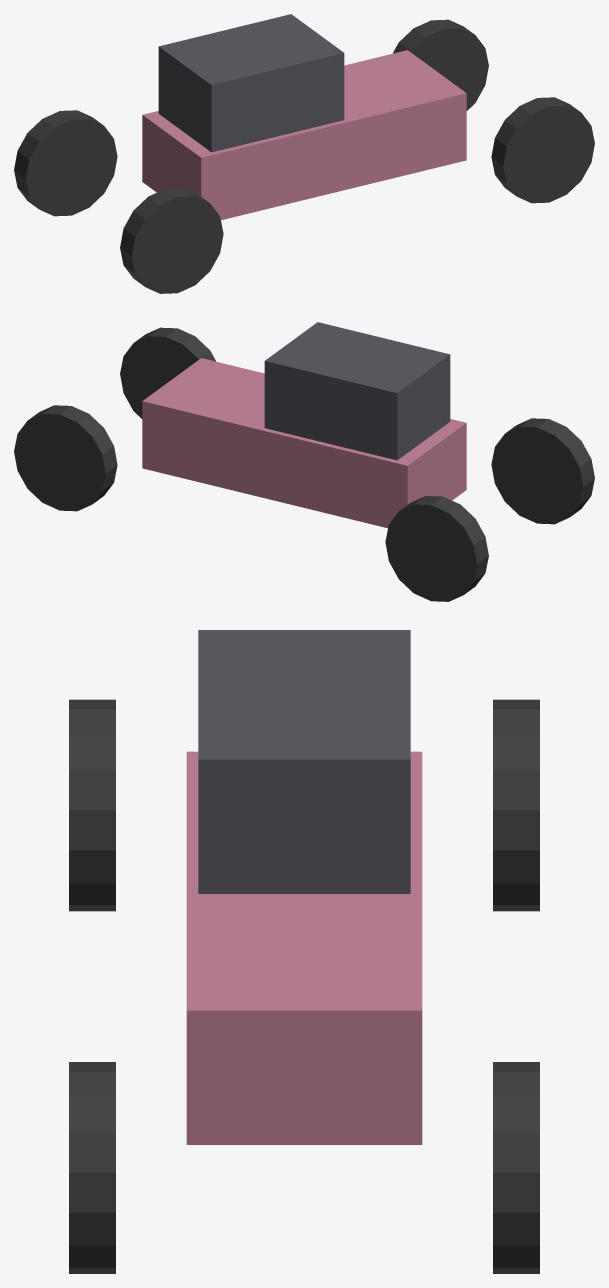
File: vehicle_truck_pickup.glb
3 renders of one model, top to bottom at view 1: azimuth 30°, elevation 25°; view 2: azimuth 150°, elevation 25°; view 3: azimuth 270°, elevation 25°, orthographic. The views are drawn at different scales.
Visible parts, largest first — view 1: vehicle_truck_pickup; view 2: vehicle_truck_pickup; view 3: vehicle_truck_pickup.
Boxes of the visible parts, x1,y1,x2,y2 form: vehicle_truck_pickup: (14, 14, 594, 293); vehicle_truck_pickup: (14, 322, 594, 601); vehicle_truck_pickup: (69, 630, 539, 1273).
Bounding box in the file's own units: 4.54 × 1.58 × 2.
